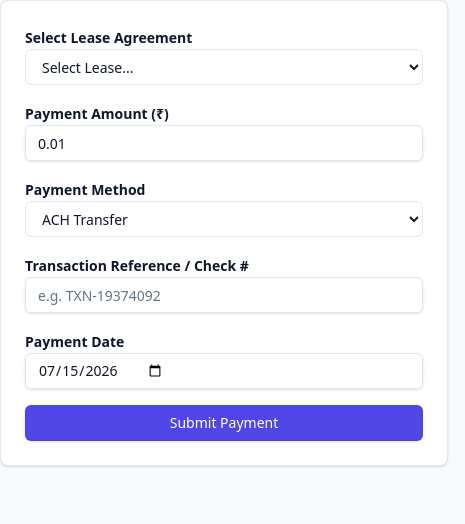
Payment Feature Components › PaymentForm › should validate form and show error for missing fields
Click the button "Submit Payment" at coordinates (224, 423), box left=25, top=405, right=423, bottom=441
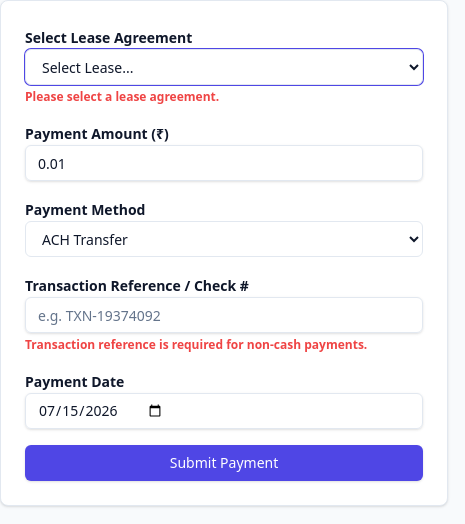
Expected: the text "Please select a lease agreement." is shown, left=25, top=88, right=219, bottom=105
